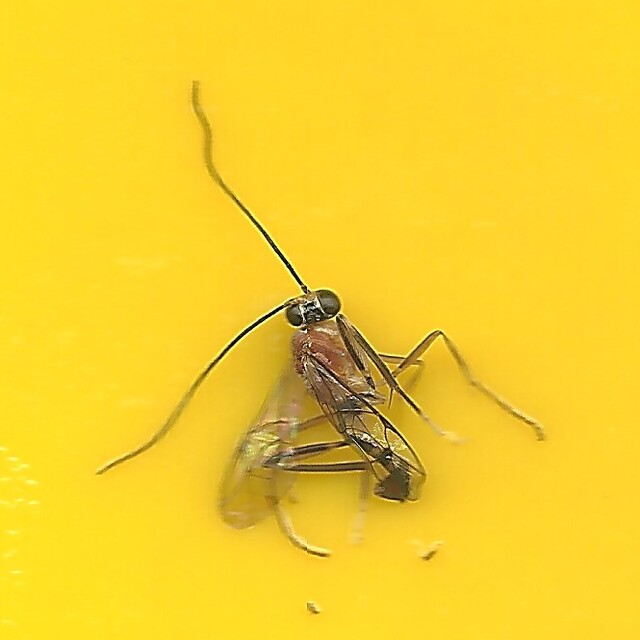Hymenoptera: (96, 81, 544, 559)
